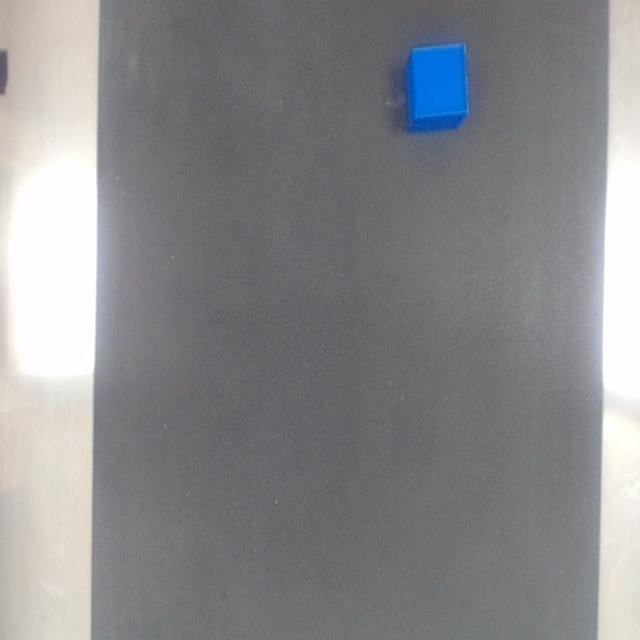Azul: (406, 43, 467, 131)
